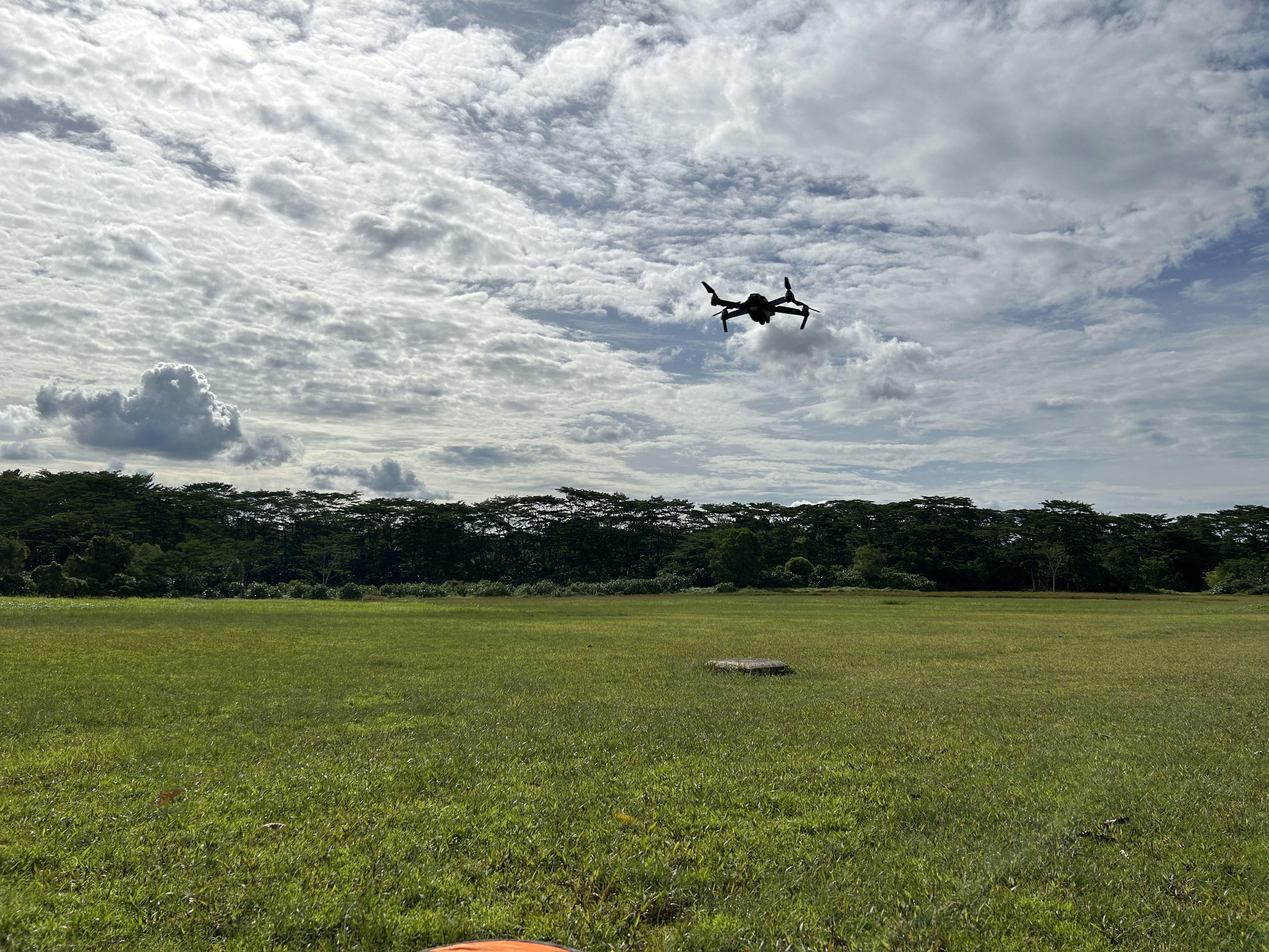drone_other: (693, 272, 820, 338)
